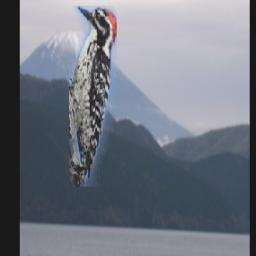Woodpecker: (70, 6, 118, 187)
